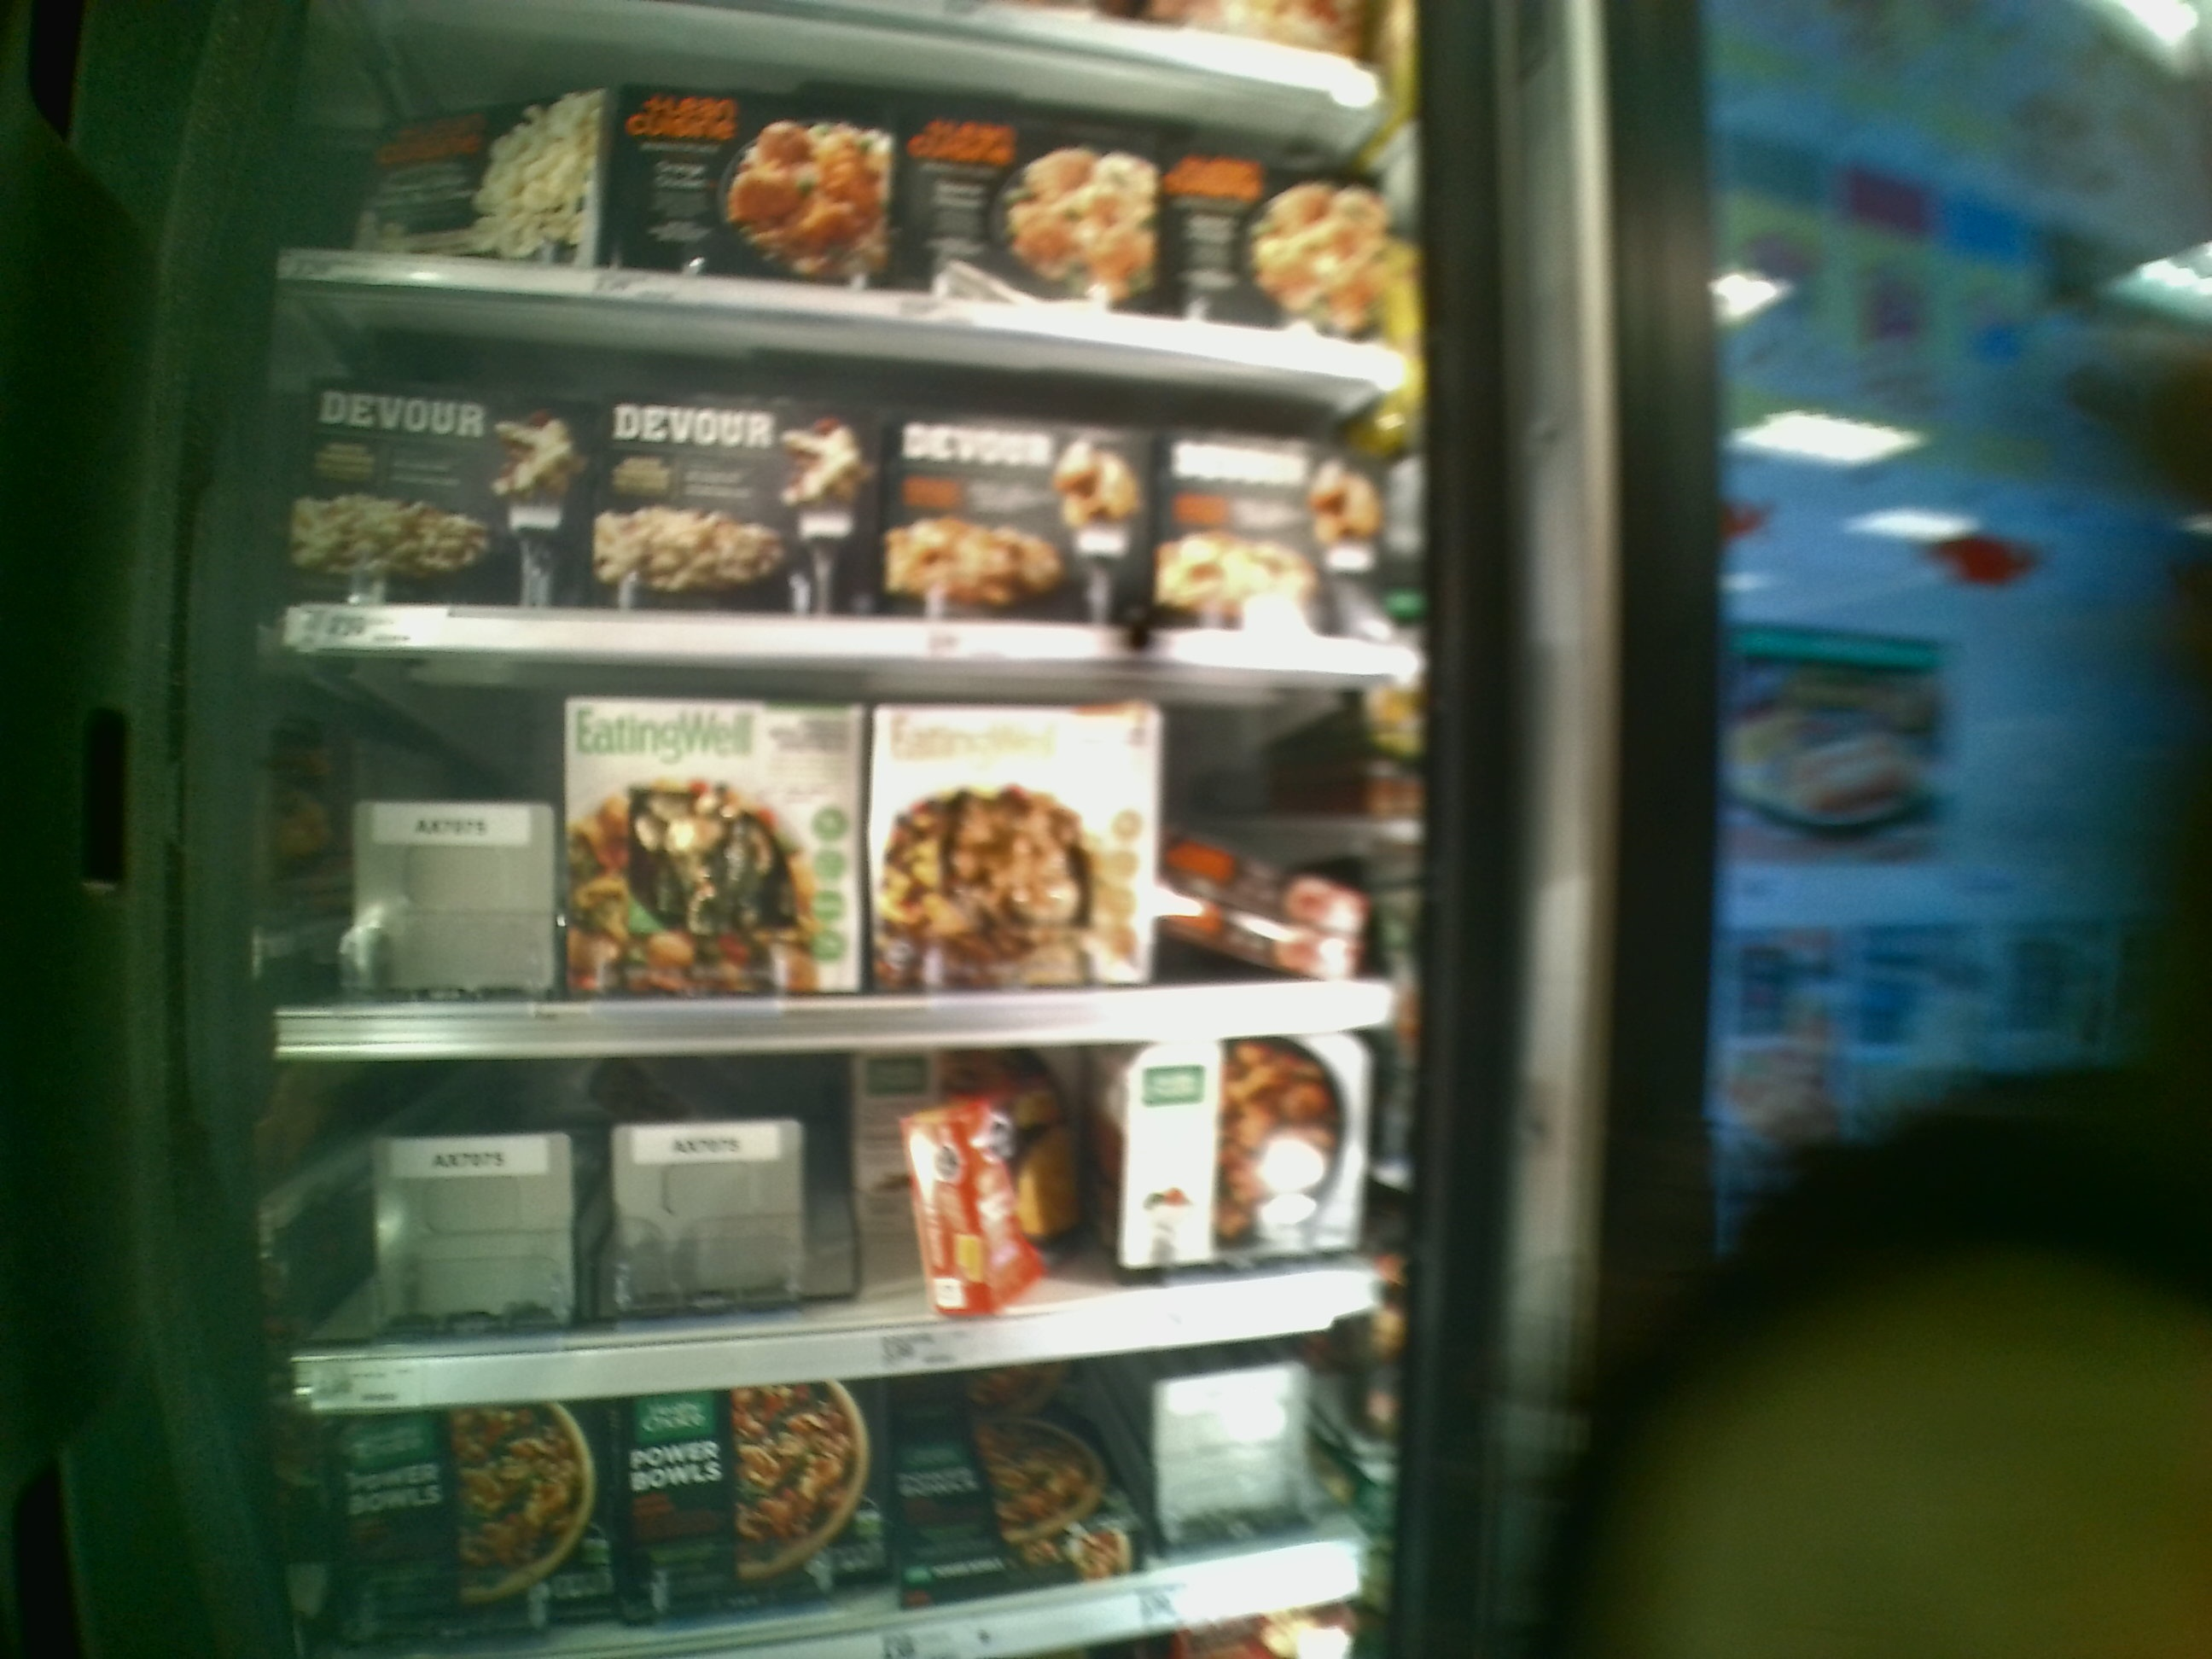shelf: (273, 648, 1406, 1047), (273, 275, 1400, 671), (280, 1023, 1406, 1410)
